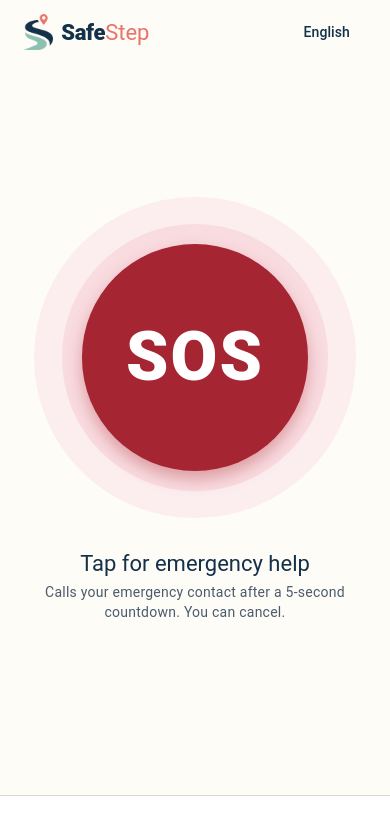
Scenario: navigation shell › switches interface text and navigation labels to Sinhala and Tamil from the language picker
This screenshot has width=390, height=830.
Click the button with aria-label "Interface language: English". click: (325, 32)
box: [284, 8, 366, 56]
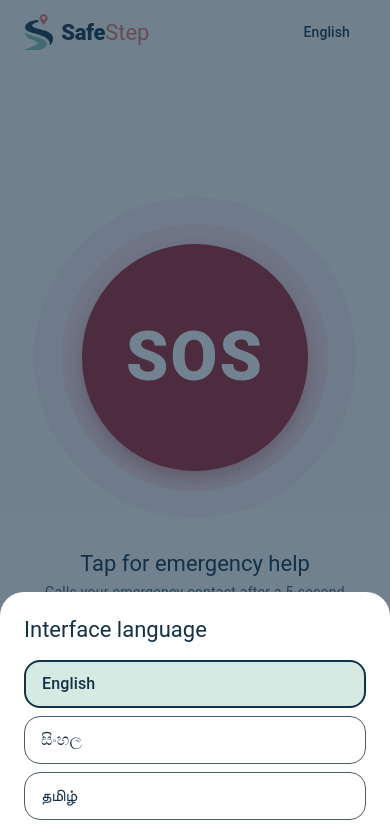
Now the radio button labelled "English" is shown, box [24, 660, 366, 708]
Now the radio button labelled "සිංහල" is shown
Now the radio button labelled "தமிழ்" is shown, box [24, 772, 366, 820]
Click the radio button labelled "සිංහල". click: (195, 740)
box: [24, 716, 366, 764]
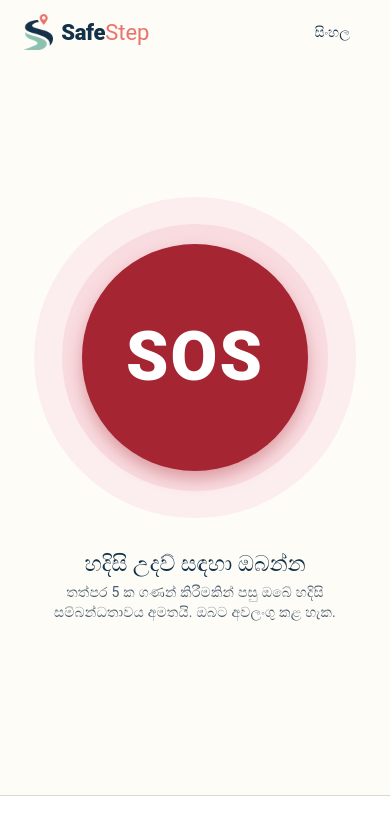
Now the text "හදිසි උදව් සඳහා ඔබන්න" is shown, box [84, 550, 306, 578]
Click the button labelled "සිංහල". click: (330, 32)
box: [294, 8, 366, 56]
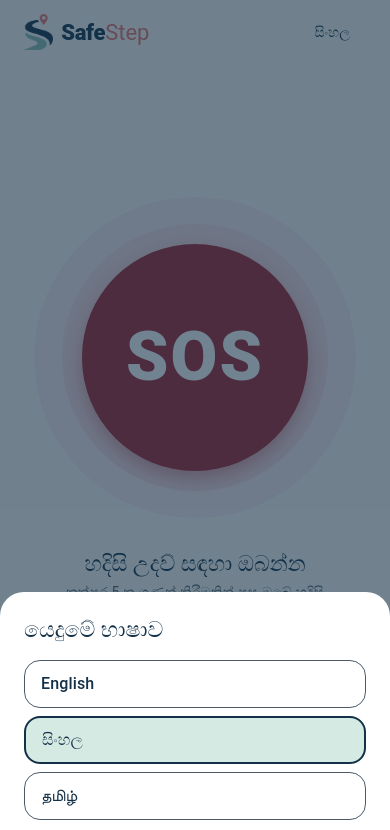
Click the radio button labelled "தமிழ்". click: (195, 796)
box: [24, 772, 366, 820]
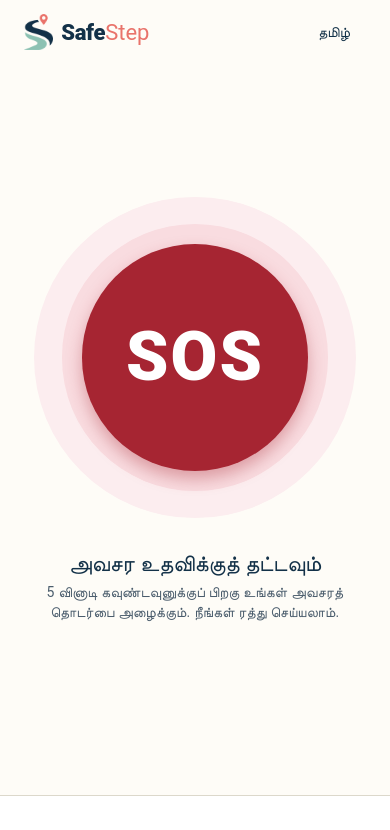
Now the text "அவசர உதவிக்குத் தட்டவும்" is shown, box [69, 550, 321, 578]
